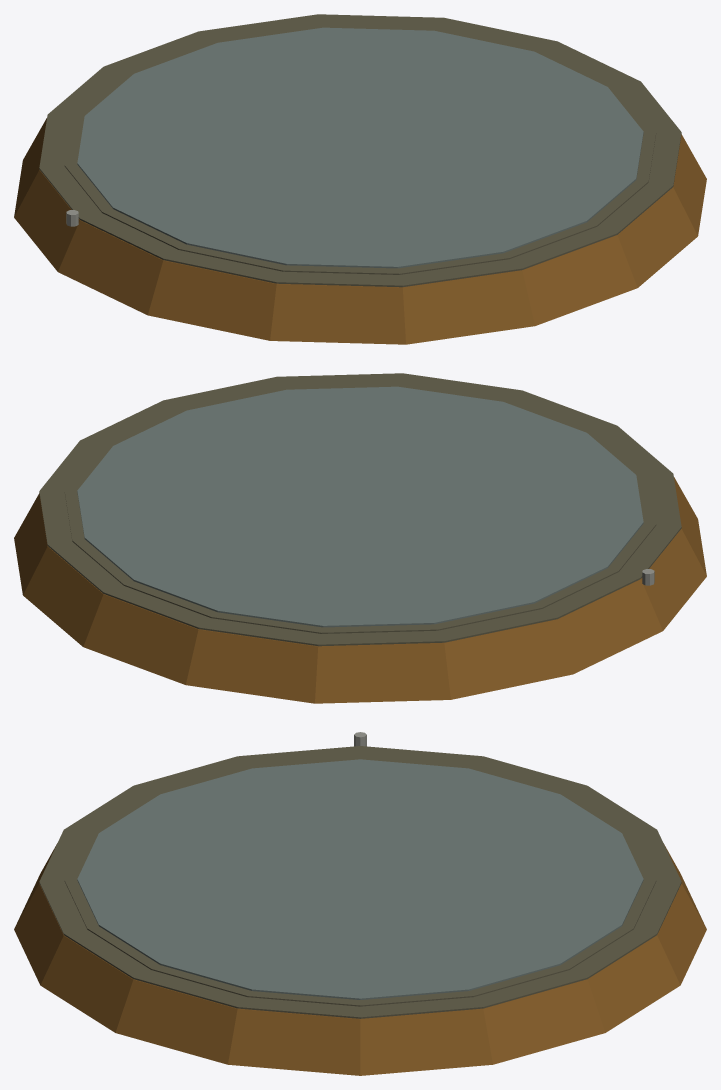
The model's file is SM_Balsa_v0_Llena_LOD0.fbx.
3 renders of one model, top to bottom at view 1: azimuth 30°, elevation 25°; view 2: azimuth 150°, elevation 25°; view 3: azimuth 270°, elevation 25°, orthographic.
Parts seen in each view (by area): view 1: SM_viveres_nules_v15_LOD0; view 2: SM_viveres_nules_v15_LOD0; view 3: SM_viveres_nules_v15_LOD0.
Part boxes in pixels (x1,y1,x2,y2): SM_viveres_nules_v15_LOD0: (14,14,706,344); SM_viveres_nules_v15_LOD0: (14,373,706,703); SM_viveres_nules_v15_LOD0: (14,732,706,1075).
Bounding box in the file's own units: 16.4 × 1.45 × 16.4.
